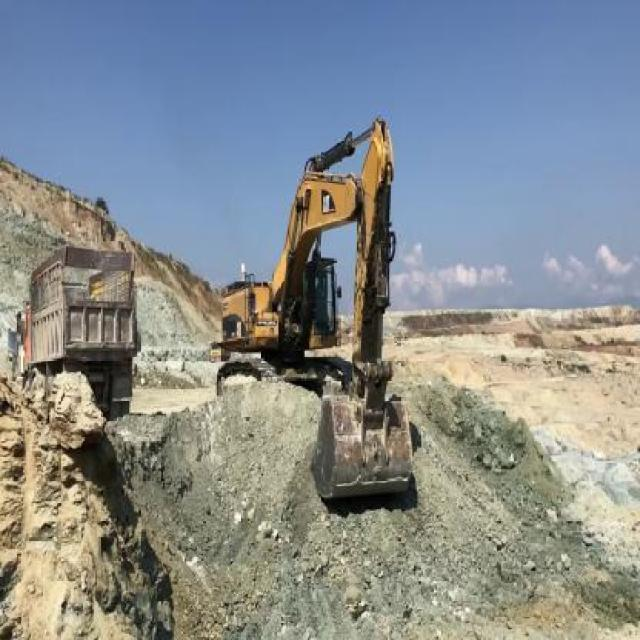dump_truck: (22, 244, 141, 422)
excavator: (209, 112, 413, 503)
